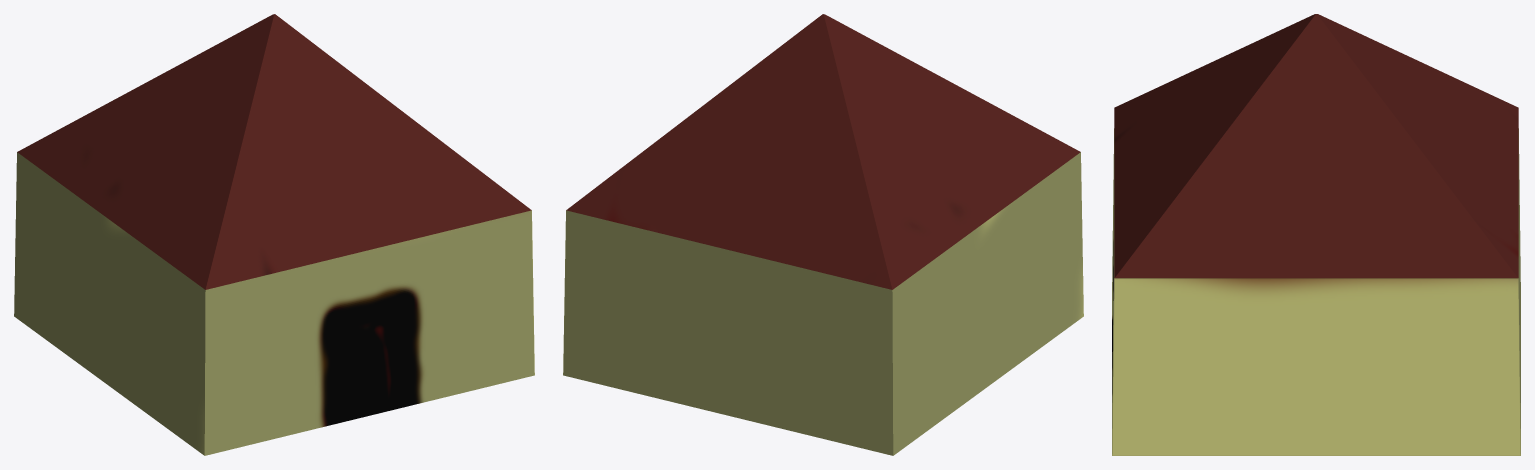
Rendered from house.glb.
The picture shows the model from 3 angles, left to right: view 1: azimuth 30°, elevation 25°; view 2: azimuth 150°, elevation 25°; view 3: azimuth 270°, elevation 25°; orthographic projection. The views are drawn at different scales.
Visible parts, largest first — view 1: Cube; view 2: Cube; view 3: Cube.
Part boxes in pixels (x1,y1,x2,y2): Cube: (14, 14, 534, 455); Cube: (563, 14, 1083, 455); Cube: (1112, 14, 1520, 455).
Size of the model in its own units: 2.68 by 2.57 by 2.68.
1 material, 1 textured.
